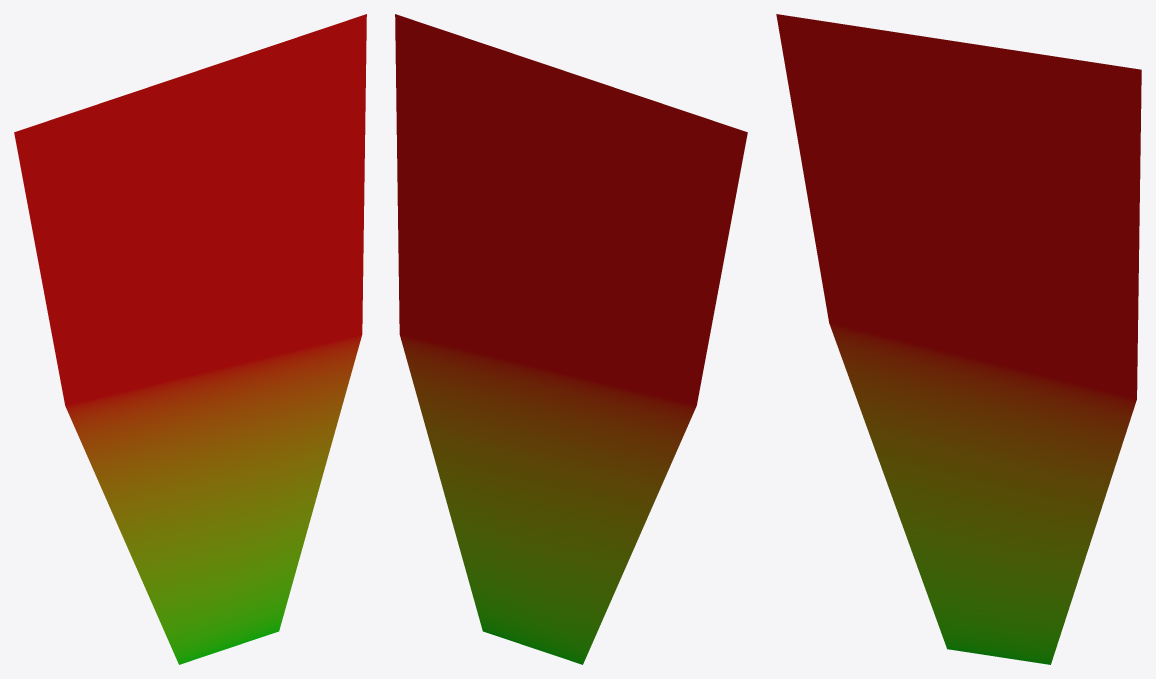
The model's file is Crownbeard_LOD4_Var2_tefoajkr.fbx.
The picture shows the model from 3 angles, left to right: view 1: azimuth 30°, elevation 25°; view 2: azimuth 150°, elevation 25°; view 3: azimuth 330°, elevation 25°; orthographic projection. The views are drawn at different scales.
Parts seen in each view (by area): view 1: _c287_Var2_LOD4; view 2: _c287_Var2_LOD4; view 3: _c287_Var2_LOD4.
Part boxes in pixels (x1=…): _c287_Var2_LOD4: x1=14, y1=14, x2=366, y2=664; _c287_Var2_LOD4: x1=395, y1=14, x2=747, y2=664; _c287_Var2_LOD4: x1=776, y1=14, x2=1141, y2=664.
Bounding box in the file's own units: 52.07 × 85.36 × 0.000179.
